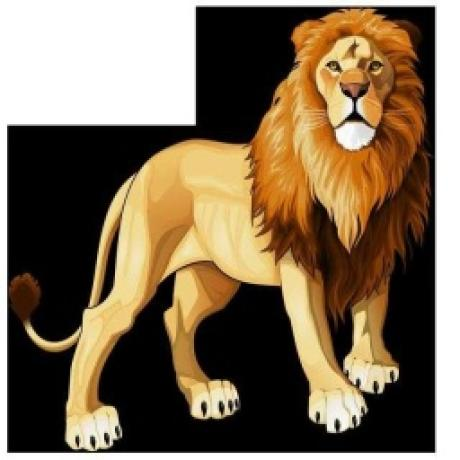Lion: (11, 4, 435, 455)
